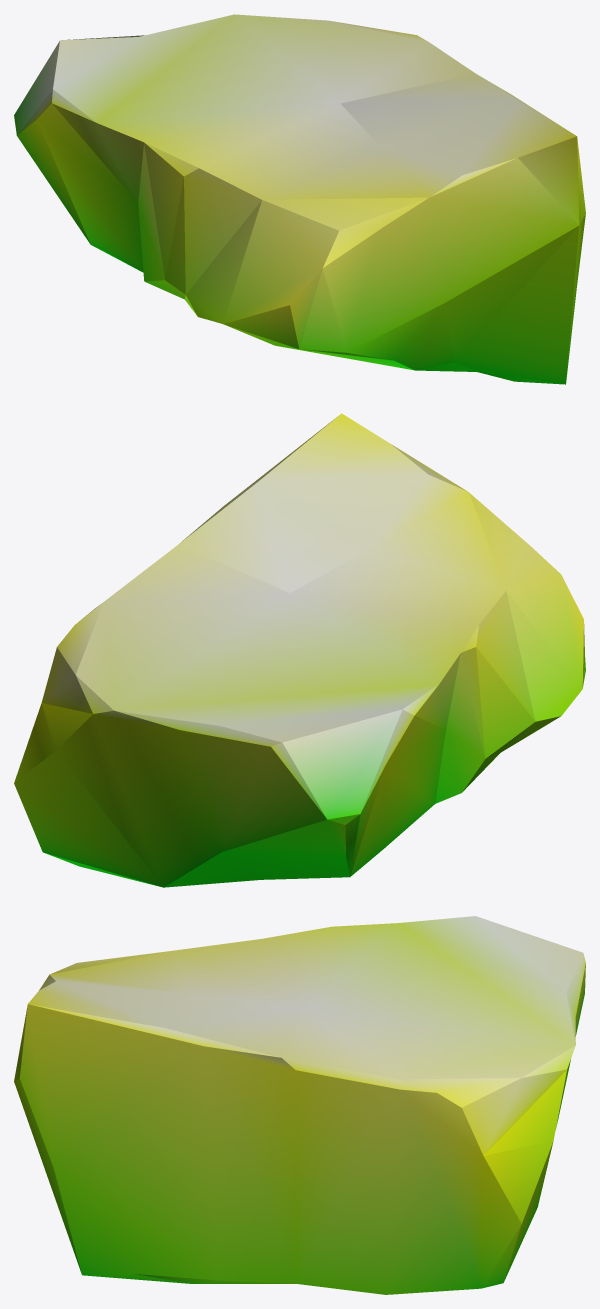
File: rock_solo_02_LOD2.fbx
The picture shows the model from 3 angles, top to bottom: view 1: azimuth 30°, elevation 25°; view 2: azimuth 150°, elevation 25°; view 3: azimuth 270°, elevation 25°; orthographic projection. The views are drawn at different scales.
Parts seen in each view (by area): view 1: LOD2; view 2: LOD2; view 3: LOD2.
Part boxes in pixels (x1=…): LOD2: x1=14, y1=14, x2=585, y2=384; LOD2: x1=14, y1=413, x2=585, y2=887; LOD2: x1=14, y1=916, x2=585, y2=1294.
Bounding box in the file's own units: 37534 × 26900 × 52544.
